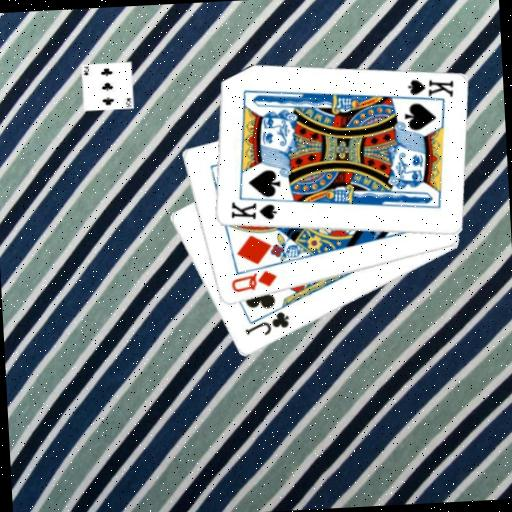JC: (241, 309, 292, 339)
KS: (398, 74, 455, 106), (227, 197, 279, 224)
QD: (227, 267, 279, 295)
